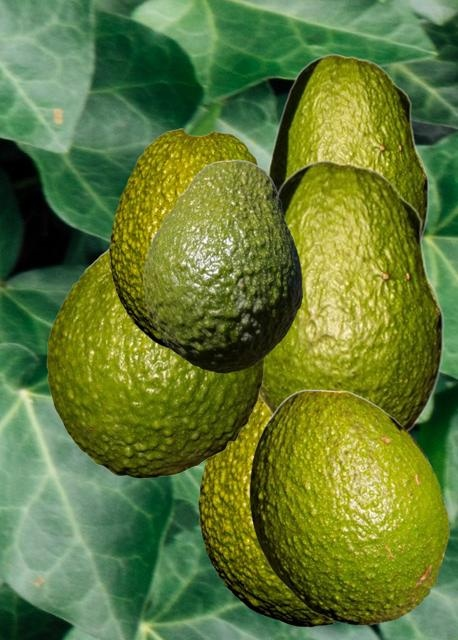avocado: (259, 159, 443, 430), (46, 248, 263, 477), (249, 389, 448, 624), (143, 159, 301, 372), (109, 128, 257, 349), (198, 399, 336, 626), (267, 53, 428, 241)
